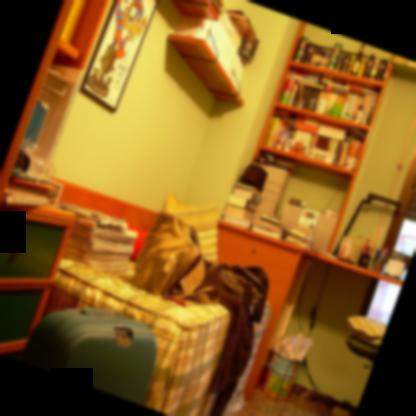backpack: (130, 208, 219, 304)
handbag: (129, 208, 219, 307)
suitcase: (20, 308, 155, 403)
